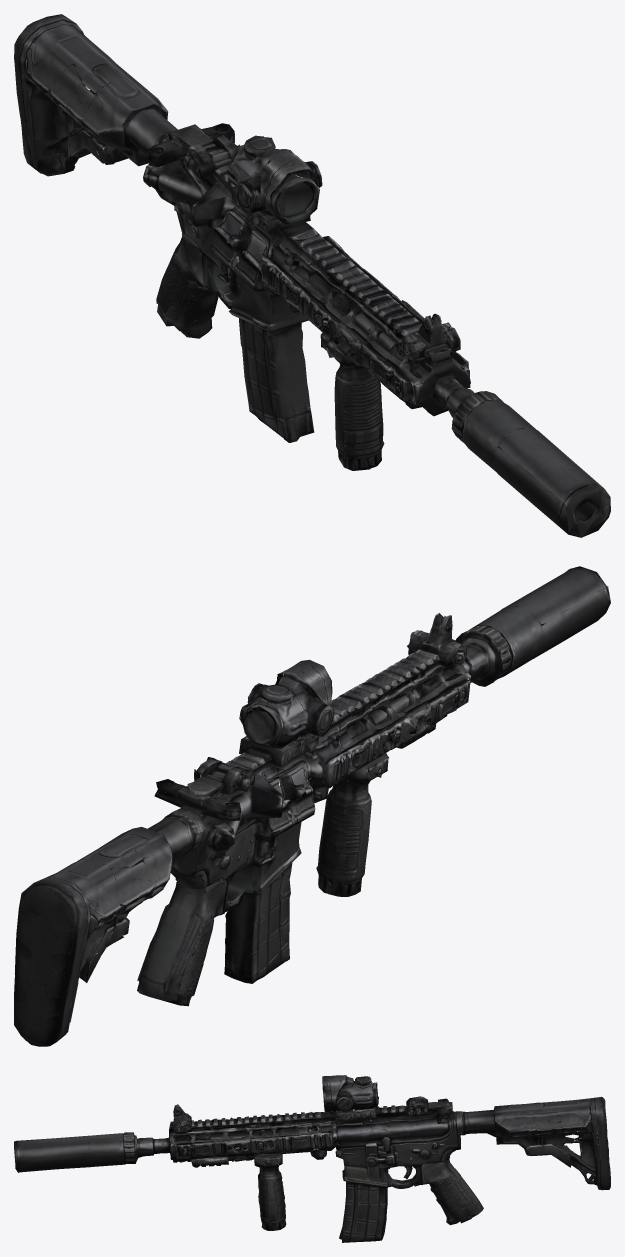
File: p_rifle.fbx
3 renders of one model, top to bottom at view 1: azimuth 30°, elevation 25°; view 2: azimuth 150°, elevation 25°; view 3: azimuth 270°, elevation 25°, orthographic. The views are drawn at different scales.
Parts seen in each view (by area): view 1: Part; view 2: Part; view 3: Part.
Part boxes in pixels (x1,y1,x2,y2): Part: (14, 14, 610, 537); Part: (14, 566, 610, 1046); Part: (14, 1075, 610, 1242).
Size of the model in its own units: 0.0806 by 0.2648 by 0.9.
